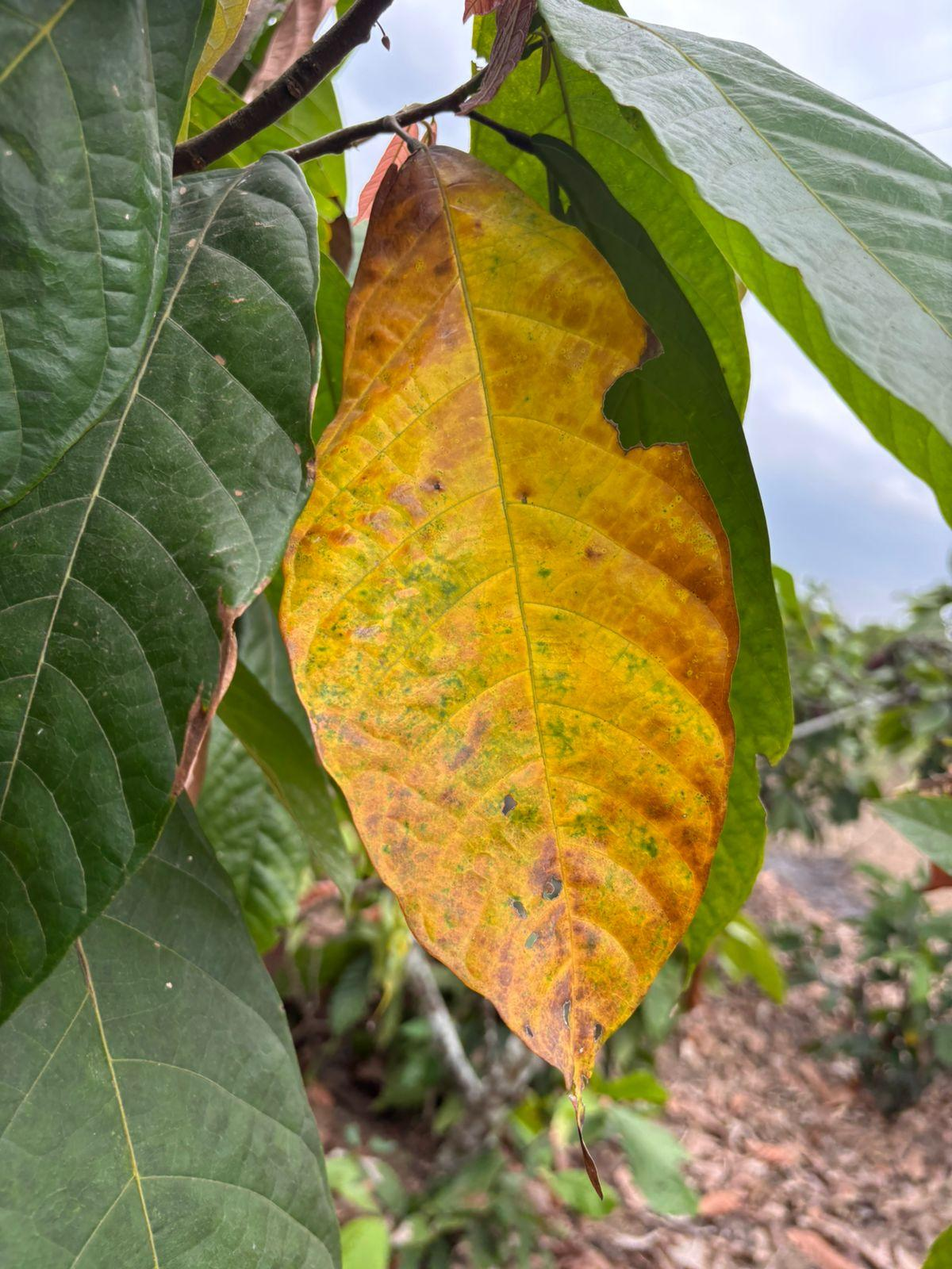deficienciia_fosforo: (282, 148, 739, 1100)
